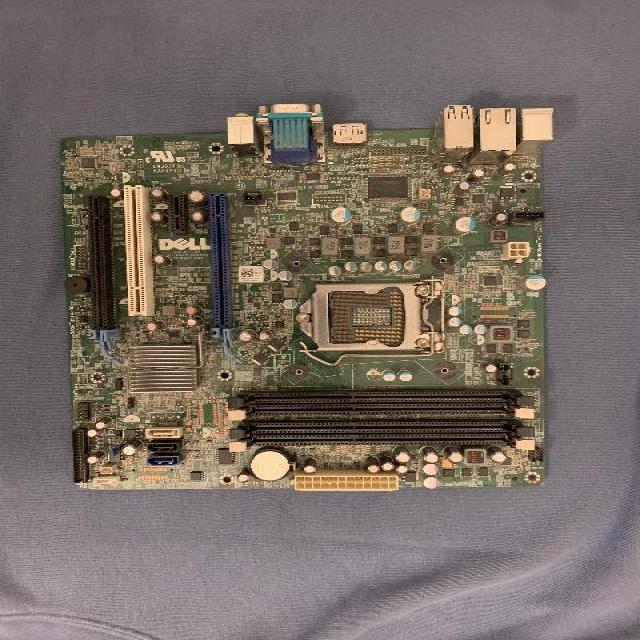Mainboard: (61, 106, 555, 490)
